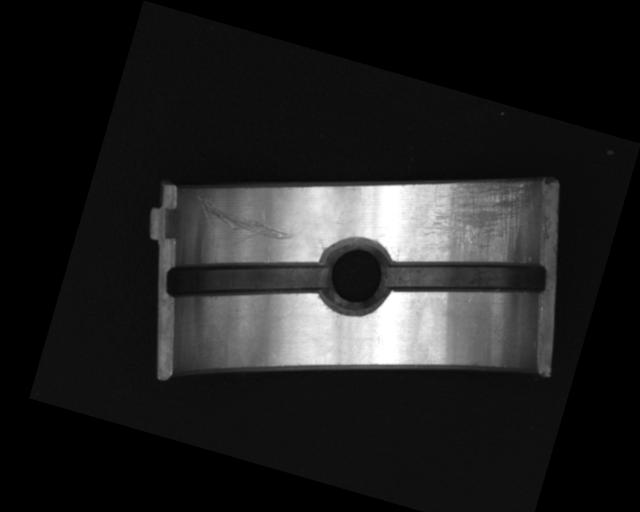gap: (161, 222, 331, 336), (381, 224, 551, 327)
hole: (311, 231, 398, 321)
nick: (183, 190, 299, 262)
scratch: (419, 154, 543, 276)
